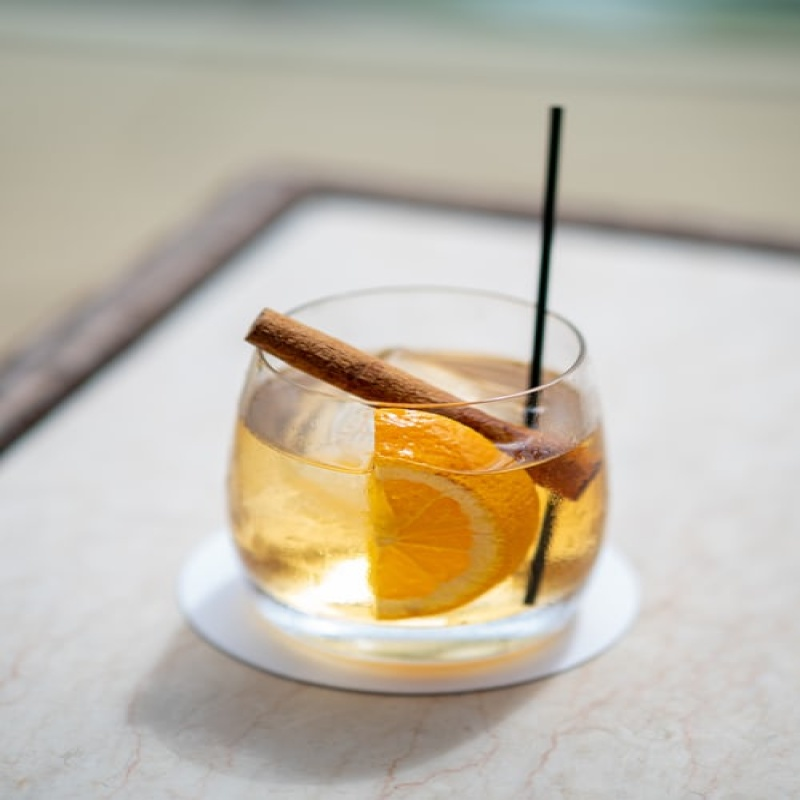whiskey: (228, 289, 605, 663)
